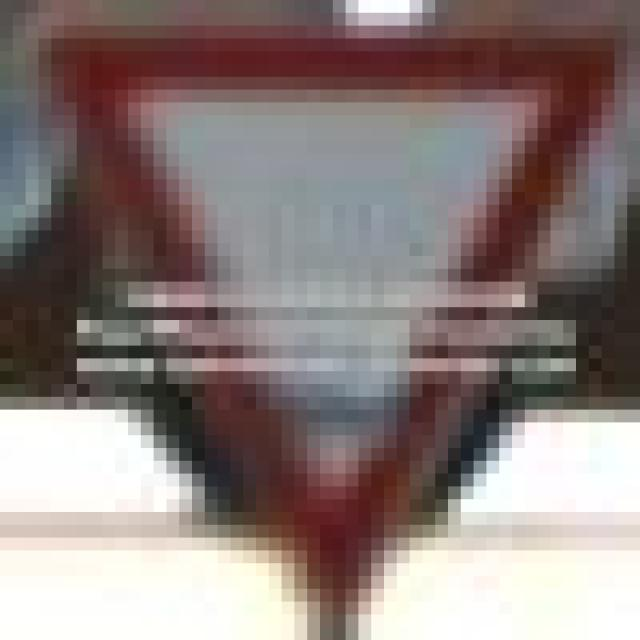gap_in_median: (13, 13, 589, 627)
